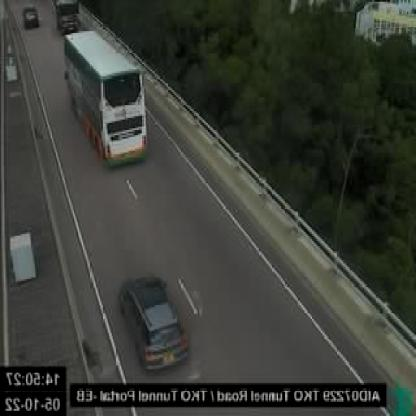Bus: (66, 31, 148, 163)
Car: (121, 274, 190, 371)
